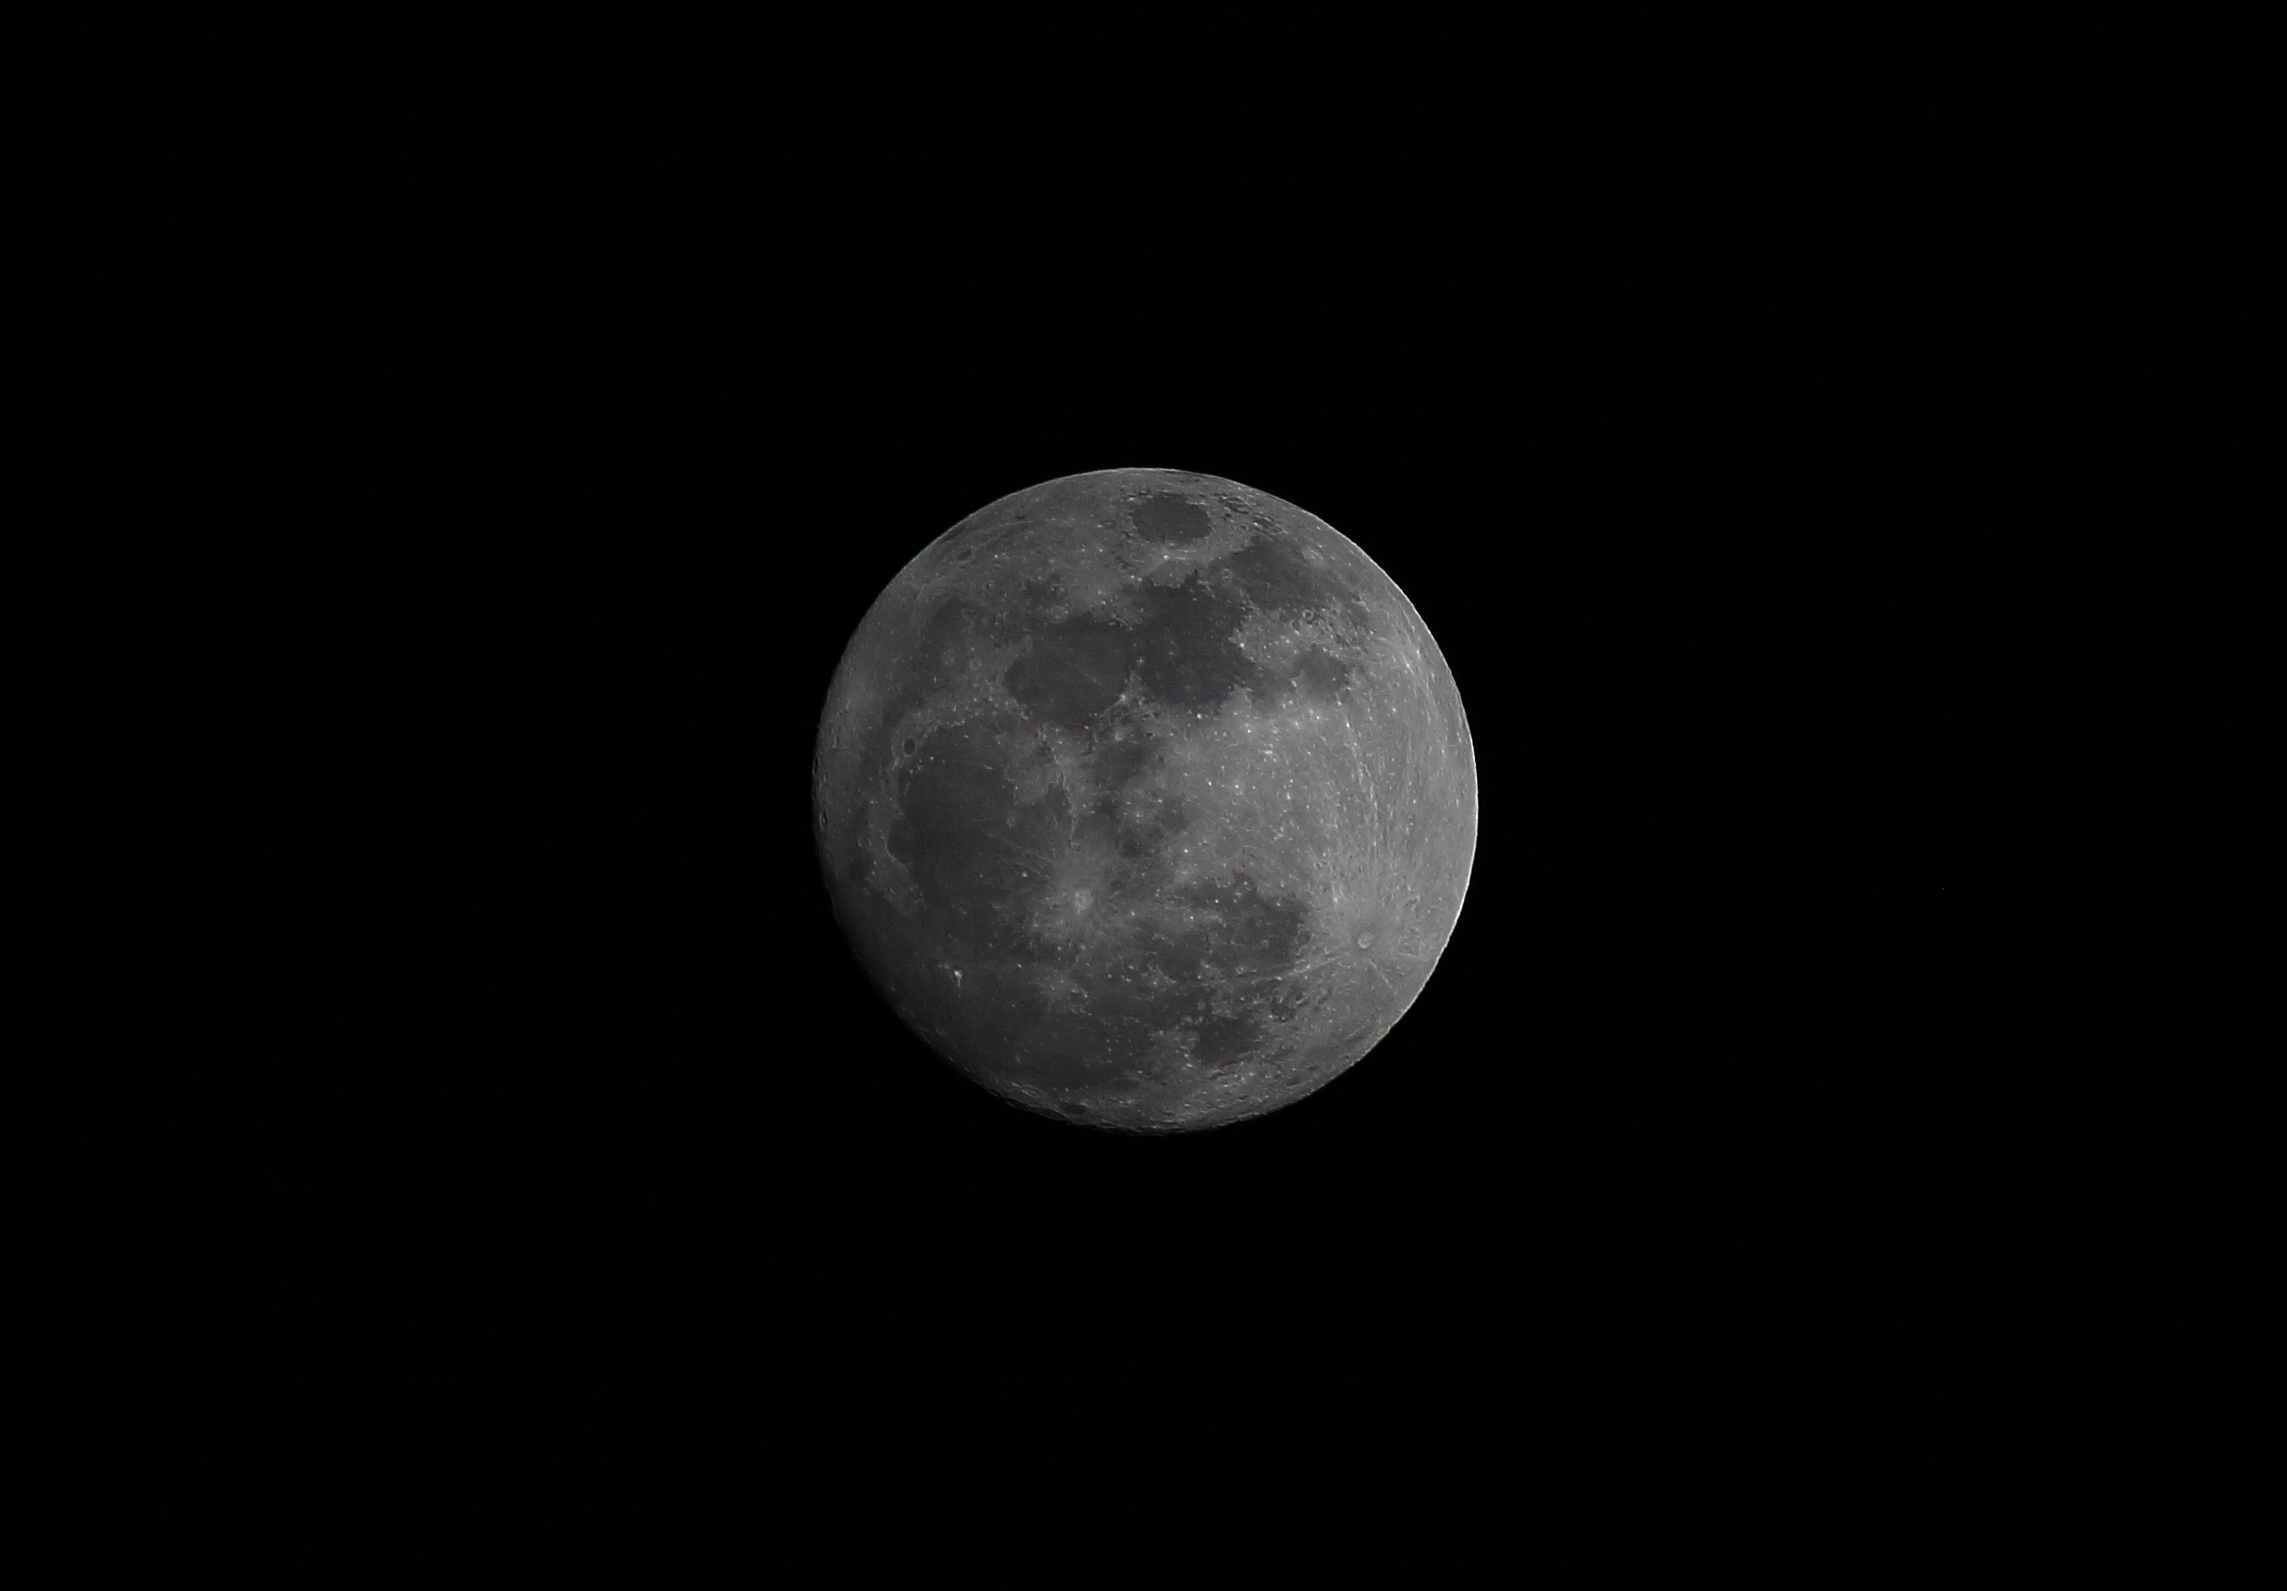crater: (1263, 834, 1422, 987), (1107, 483, 1227, 547), (1044, 870, 1123, 936), (991, 802, 1027, 839), (893, 733, 923, 764), (947, 542, 980, 566), (933, 644, 961, 670), (1152, 547, 1182, 570)
